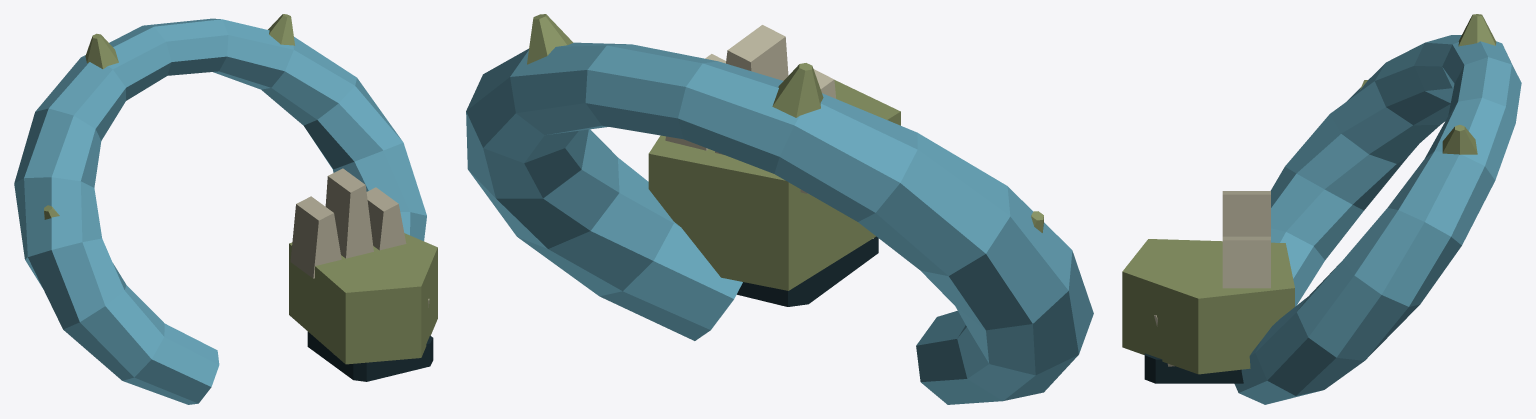
Rendered from world.glb.
3 views of the same model, side by side, from view 1: azimuth 30°, elevation 25°; view 2: azimuth 150°, elevation 25°; view 3: azimuth 270°, elevation 25° (orthographic). The views are drawn at different scales.
Parts seen in each view (by area): view 1: body, head, jaw; view 2: body, head, jaw; view 3: body, head, jaw.
Boxes of the visible parts, <box> form: body: <box>14,14,426,404</box>; head: <box>289,168,437,364</box>; jaw: <box>307,299,433,381</box>; body: <box>466,14,1093,404</box>; head: <box>648,25,900,290</box>; jaw: <box>737,236,878,306</box>; body: <box>1234,14,1521,404</box>; head: <box>1122,191,1294,374</box>; jaw: <box>1144,315,1243,383</box>.
Size of the model in its own units: 3.15 by 2.3 by 2.7.
